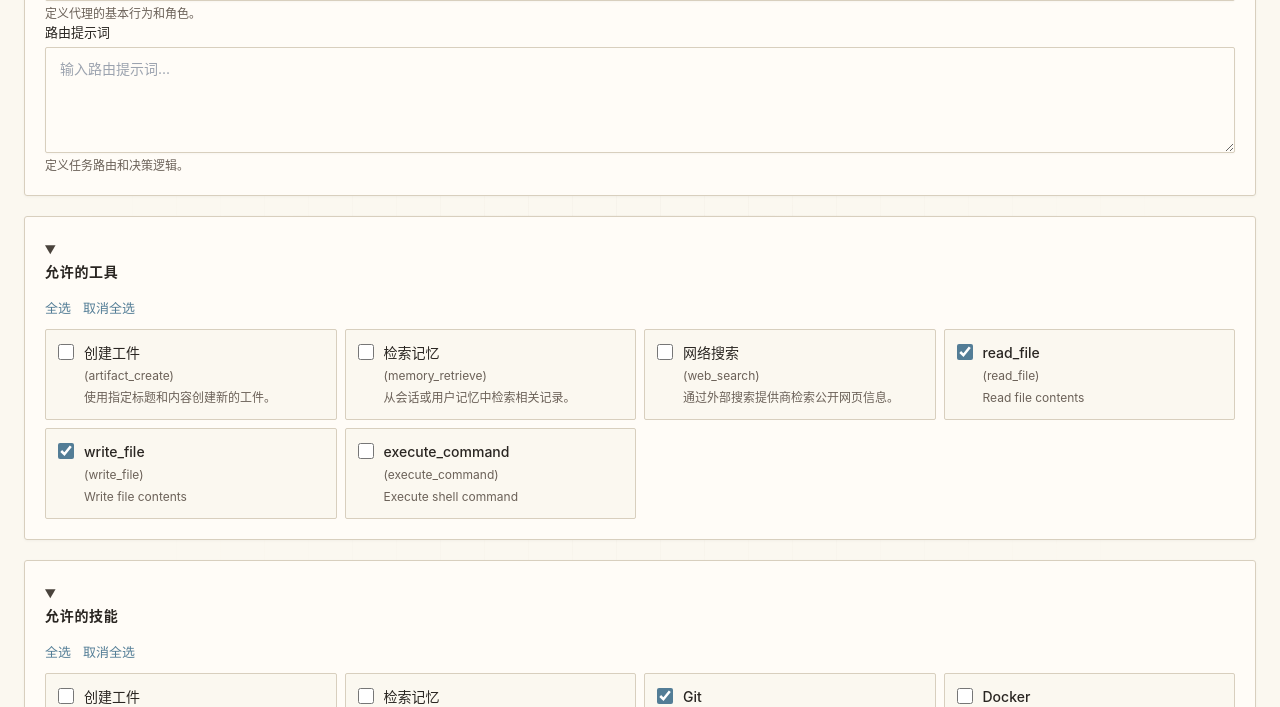
AgentsTab › Form Interactions › should deselect all tools when deselect all clicked
(page scrolled)
Click the button with test id "deselect-all-tools-btn" at (109, 307), box [83, 298, 135, 316]
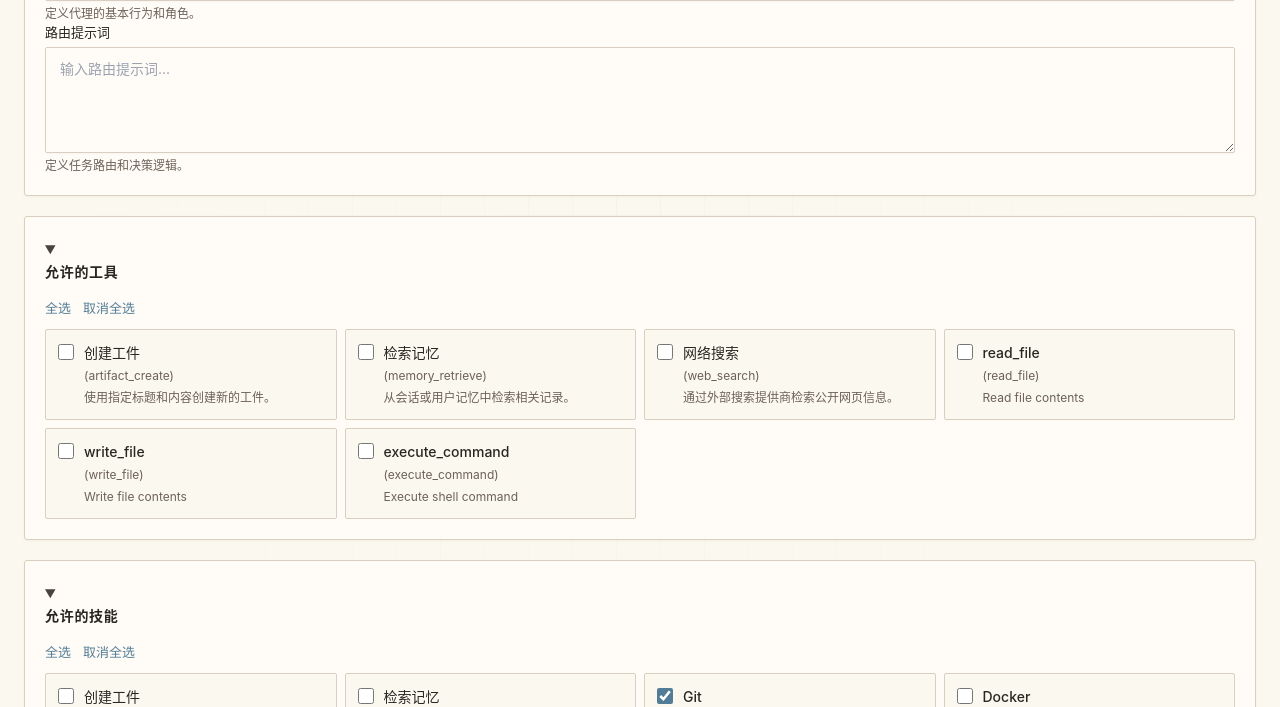
Check: the checkbox with test id "tool-checkbox-read_file" is not checked, box [956, 344, 972, 360]
Check: the checkbox with test id "tool-checkbox-write_file" is not checked, box [58, 442, 74, 458]
